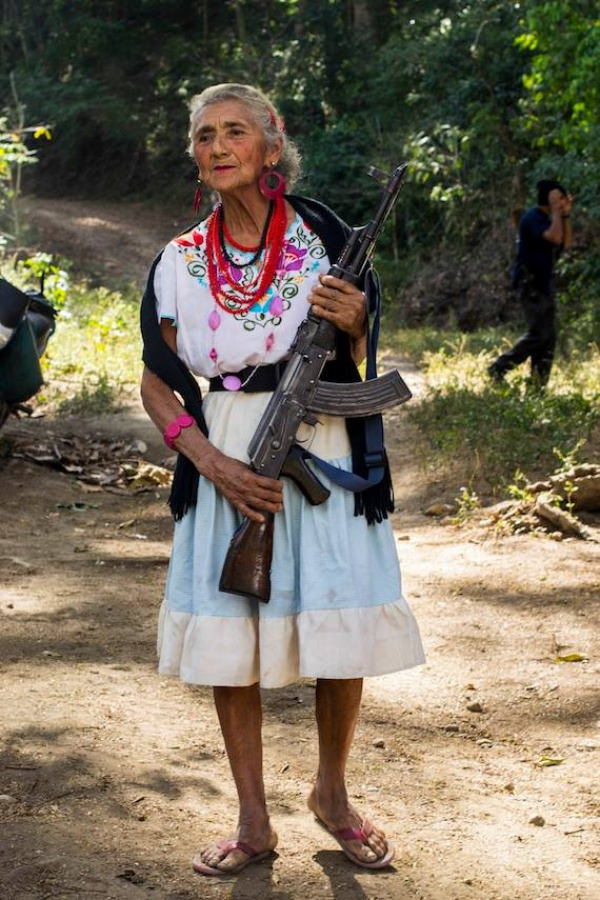ak47: (222, 165, 415, 603)
